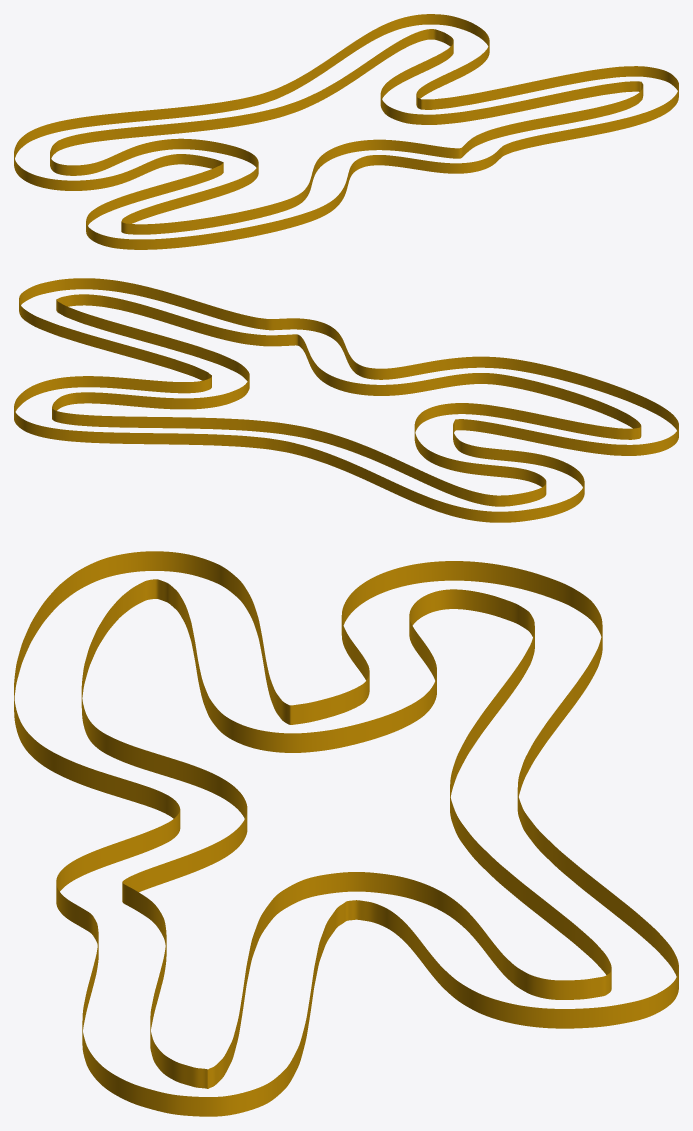
Rendered from walls_export.fbx.
The picture shows the model from 3 angles, top to bottom: view 1: azimuth 30°, elevation 25°; view 2: azimuth 150°, elevation 25°; view 3: azimuth 270°, elevation 25°; orthographic projection. The views are drawn at different scales.
Visible parts, largest first — view 1: Walls; view 2: Walls; view 3: Walls.
Boxes of the visible parts, x1=… form: Walls: x1=14, y1=14, x2=678, y2=249; Walls: x1=14, y1=278, x2=678, y2=522; Walls: x1=14, y1=551, x2=678, y2=1116.
Size of the model in its own units: 2384 by 40 by 1228.
